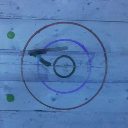Axe Tip: (36, 50, 47, 54)
